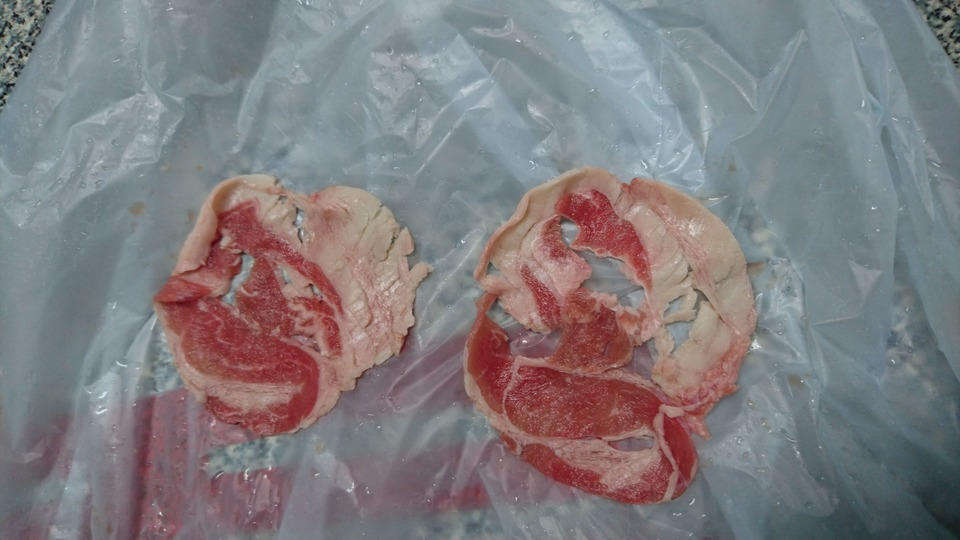restructured meat: (466, 165, 760, 504), (149, 160, 424, 431)
